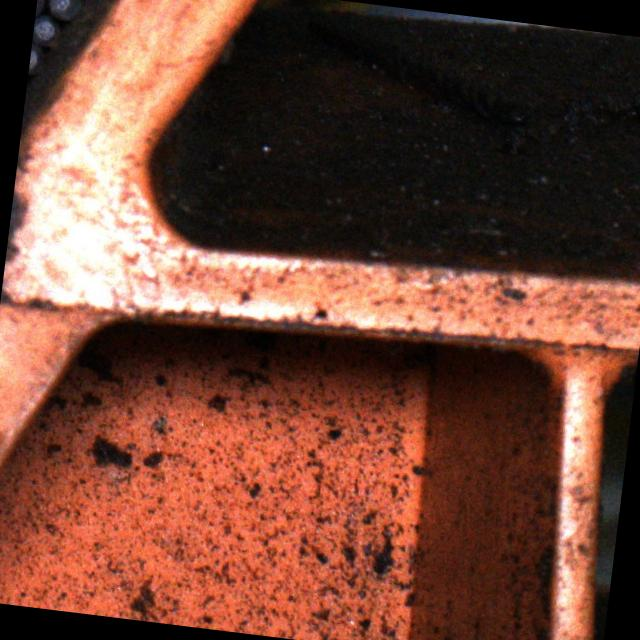tool: (32, 11, 62, 47), (45, 0, 84, 21), (28, 42, 45, 75)
